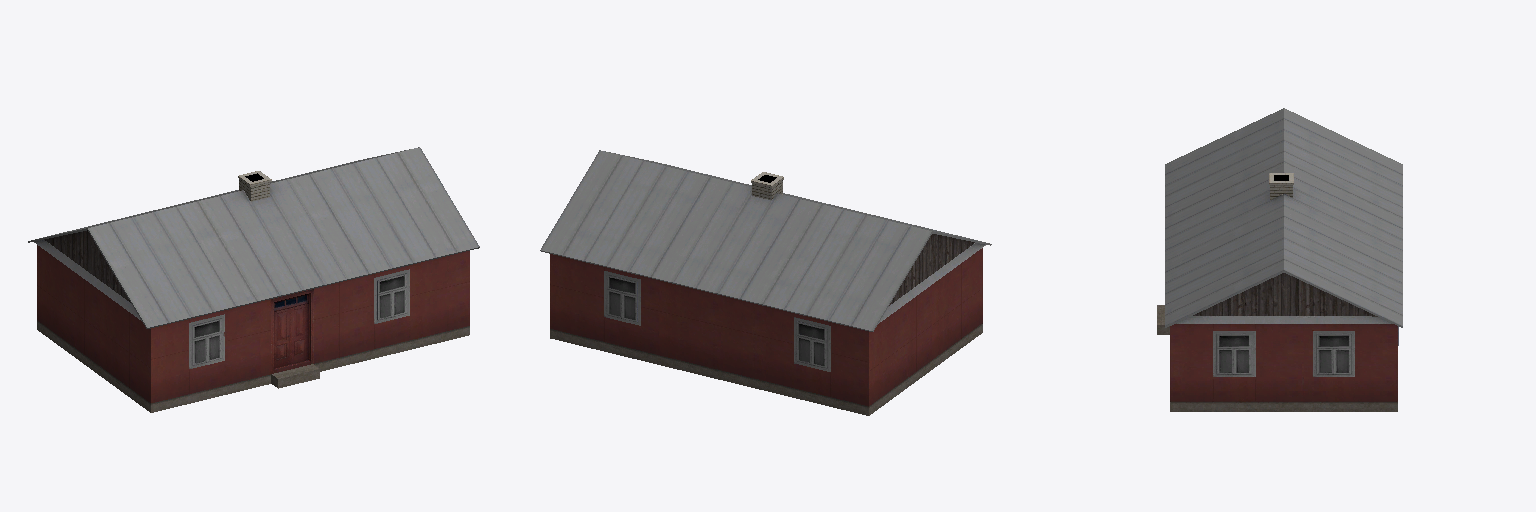
3 renders of one model, left to right at view 1: azimuth 30°, elevation 25°; view 2: azimuth 150°, elevation 25°; view 3: azimuth 270°, elevation 25°, orthographic.
Visible parts, largest first — view 1: polish_house_1; view 2: polish_house_1; view 3: polish_house_1.
Part boxes in pixels (x1,y1,x2,y2): polish_house_1: (28,147,479,412); polish_house_1: (540,150,991,415); polish_house_1: (1157,108,1402,411).
Size of the model in its own units: 11.67 by 5.23 by 7.49.
Materials: 1 (1 with a texture image).